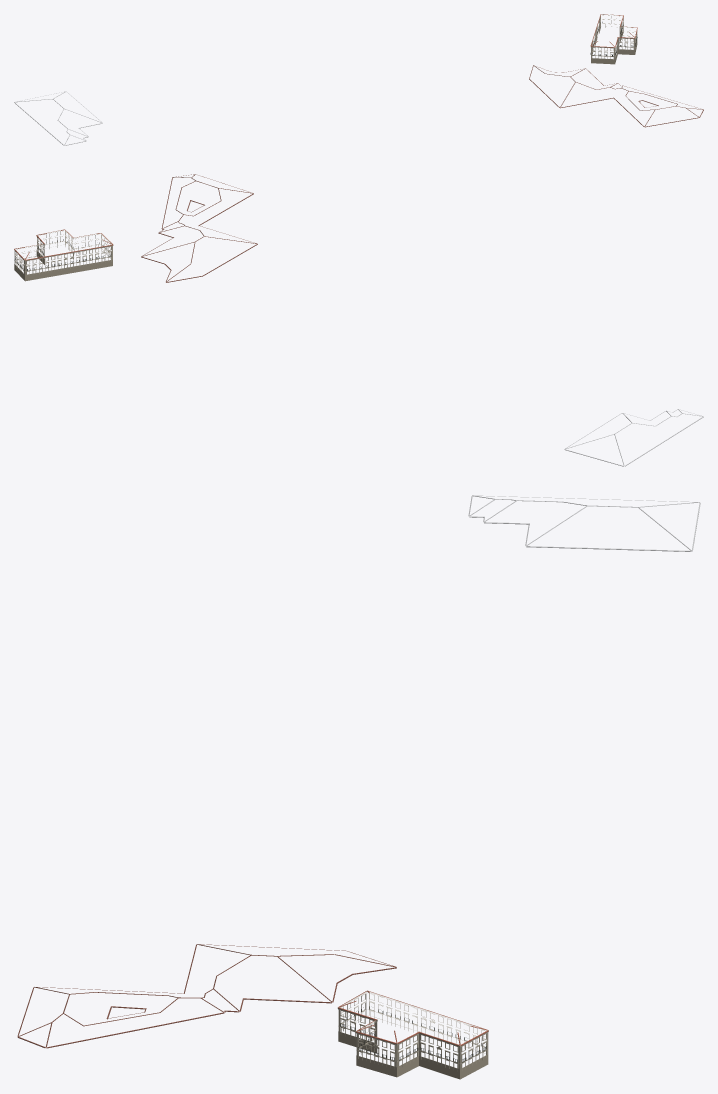
3 renders of one model, top to bottom at view 1: azimuth 30°, elevation 25°; view 2: azimuth 150°, elevation 25°; view 3: azimuth 270°, elevation 25°, orthographic. The views are drawn at different scales.
Visible parts, largest first — view 1: detail; view 2: detail; view 3: detail.
Boxes of the visible parts, x1,y1,x2,y2 form: detail: [14, 14, 703, 145]; detail: [14, 174, 703, 466]; detail: [17, 495, 700, 1079].
Bounding box in the file's own units: 365 × 18.46 × 194.
